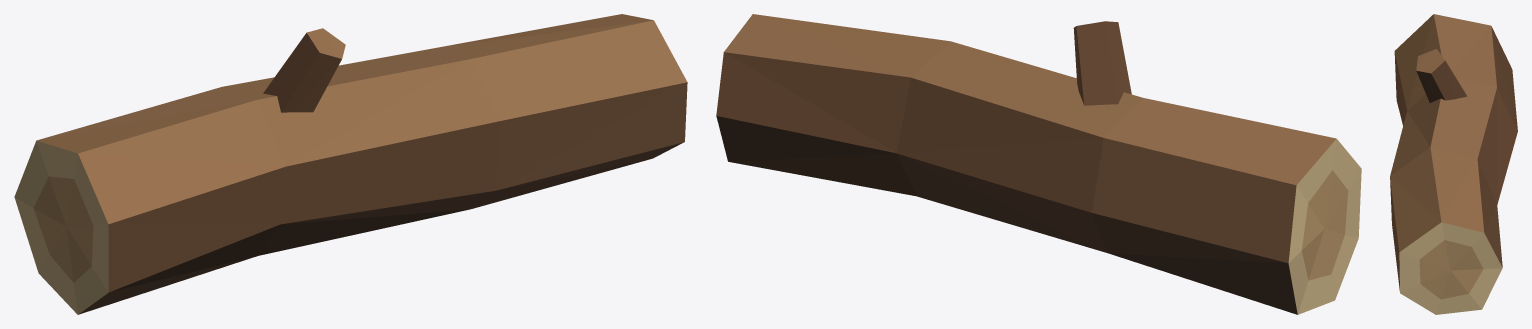
File: SM_Log_B.fbx
3 renders of one model, left to right at view 1: azimuth 30°, elevation 25°; view 2: azimuth 150°, elevation 25°; view 3: azimuth 270°, elevation 25°, orthographic. The views are drawn at different scales.
Visible parts, largest first — view 1: SM_Log_B; view 2: SM_Log_B; view 3: SM_Log_B.
Part boxes in pixels (x1,y1,x2,y2): SM_Log_B: (14,14,687,314); SM_Log_B: (716,14,1361,314); SM_Log_B: (1390,14,1517,314).
Size of the model in its own units: 1.54 by 0.5586 by 0.4089.
